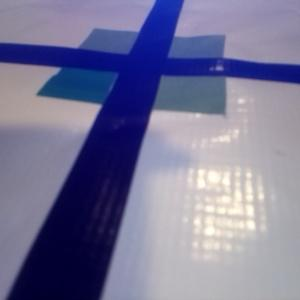bottom_left: (37, 55, 156, 104)
bottom_right: (118, 58, 227, 115)
top_left: (77, 27, 139, 70)
top_right: (137, 35, 226, 75)
